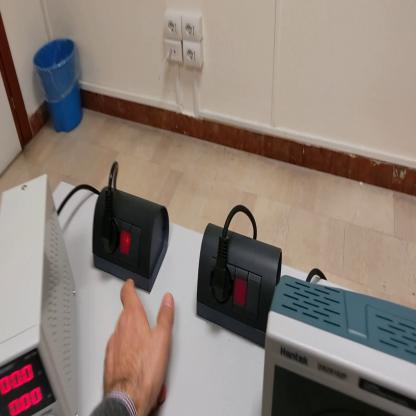hand: (104, 278, 175, 414)
oscilloscope: (256, 272, 416, 415)
power supply: (2, 178, 81, 414)
socket: (197, 216, 284, 351), (91, 184, 170, 294)
